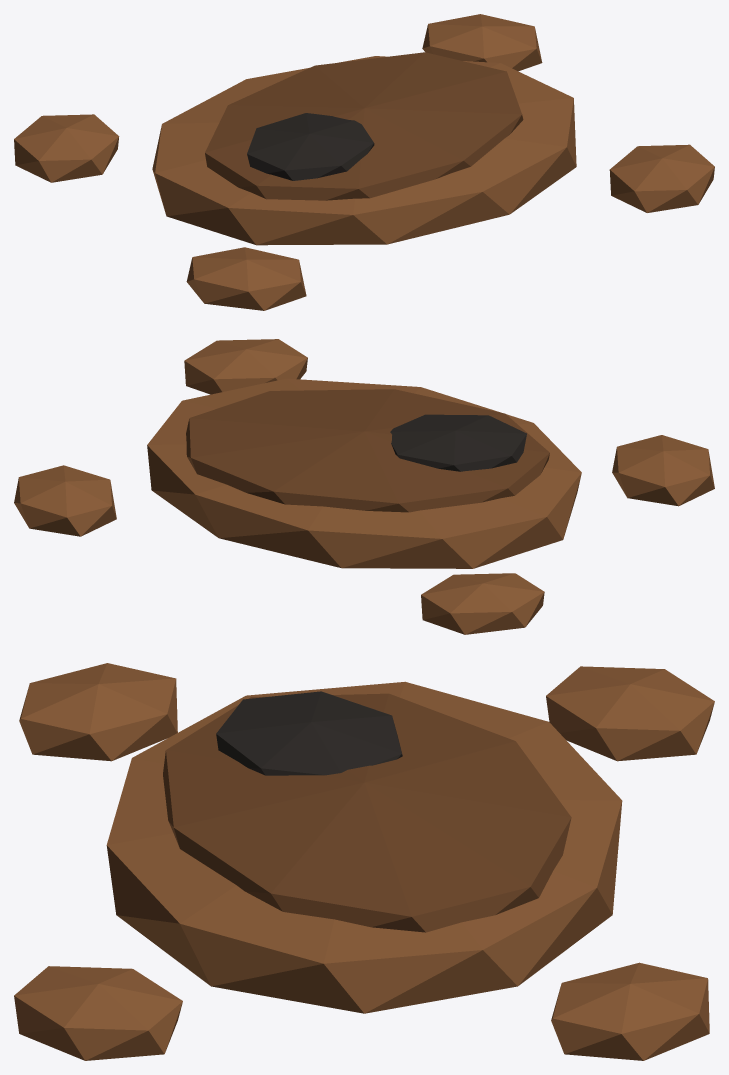
Rendered from drop_hide.glb.
3 renders of one model, top to bottom at view 1: azimuth 30°, elevation 25°; view 2: azimuth 150°, elevation 25°; view 3: azimuth 270°, elevation 25°, orthographic. The views are drawn at different scales.
Parts seen in each view (by area): view 1: drop_hide; view 2: drop_hide; view 3: drop_hide.
Part boxes in pixels (left/top/right/bottom): drop_hide: left=14, top=14, right=714, bottom=310; drop_hide: left=14, top=339, right=714, bottom=634; drop_hide: left=14, top=663, right=714, bottom=1060.
Bounding box in the file's own units: 0.4951 × 0.075 × 0.3954.
